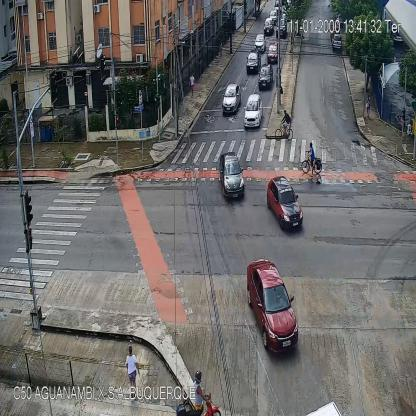bicycle: (301, 142, 322, 176), (275, 110, 293, 140)
car: (246, 260, 299, 352), (267, 175, 303, 231), (219, 151, 245, 201), (221, 84, 241, 116), (244, 94, 262, 129), (258, 67, 272, 92), (246, 50, 260, 73), (275, 18, 287, 37), (268, 43, 278, 64), (254, 33, 265, 49), (264, 19, 273, 36), (333, 33, 341, 49), (270, 10, 278, 22)
motorbike: (175, 371, 220, 416)
person: (125, 346, 140, 399), (400, 113, 406, 136), (366, 93, 370, 118), (190, 73, 194, 96), (219, 36, 222, 56)
